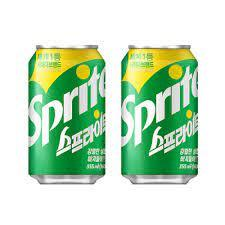sprite: (120, 42, 207, 190), (26, 41, 107, 188)
